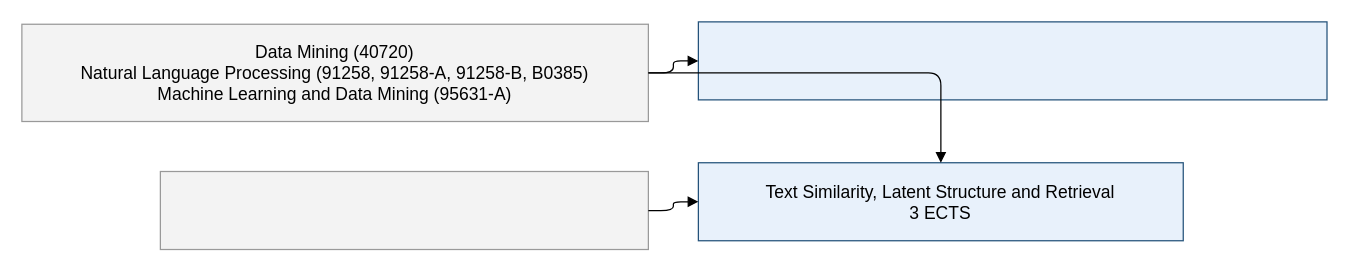
Some shapes in this 1350 by 273 pixel diagram are drawn without their labels. Each missing label, with the box of its shape:
Multimedia Data Management M (77933, 78096) Multimedia Data Management (91269): (159, 170, 648, 250)
Text Classification, Convolutional Networks and Opinion Mining 3 ECTS: (697, 21, 1327, 100)
